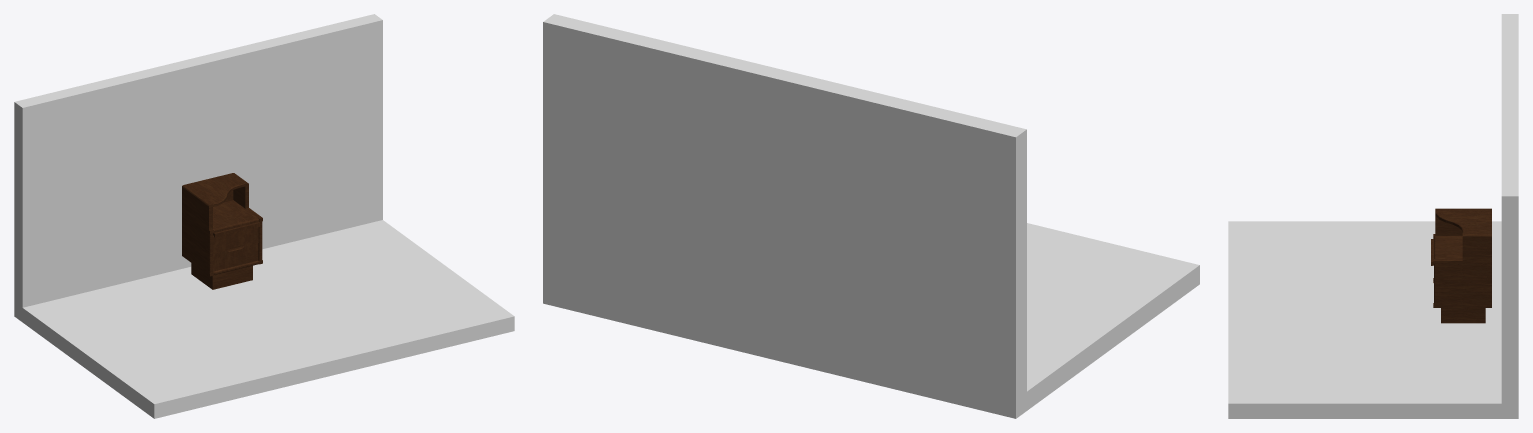
The model's file is Bedside Table.fbx.
3 renders of one model, left to right at view 1: azimuth 30°, elevation 25°; view 2: azimuth 150°, elevation 25°; view 3: azimuth 270°, elevation 25°, orthographic. The views are drawn at different scales.
Parts seen in each view (by area): view 1: Wall, Bedsisde Table 2, Cube.005, Cube.004; view 2: Wall; view 3: Wall, Bedsisde Table 2.
Boxes of the visible parts, x1=… form: Wall: x1=14, y1=14, x2=514, y2=418; Bedsisde Table 2: x1=182, y1=173, x2=262, y2=289; Cube.005: x1=213, y1=243, x2=258, y2=271; Cube.004: x1=213, y1=227, x2=258, y2=253; Wall: x1=543, y1=14, x2=1199, y2=418; Wall: x1=1228, y1=14, x2=1518, y2=418; Bedsisde Table 2: x1=1433, y1=208, x2=1491, y2=323.
Size of the model in its own units: 1687 by 960 by 1136.
4 materials, 1 textured.
